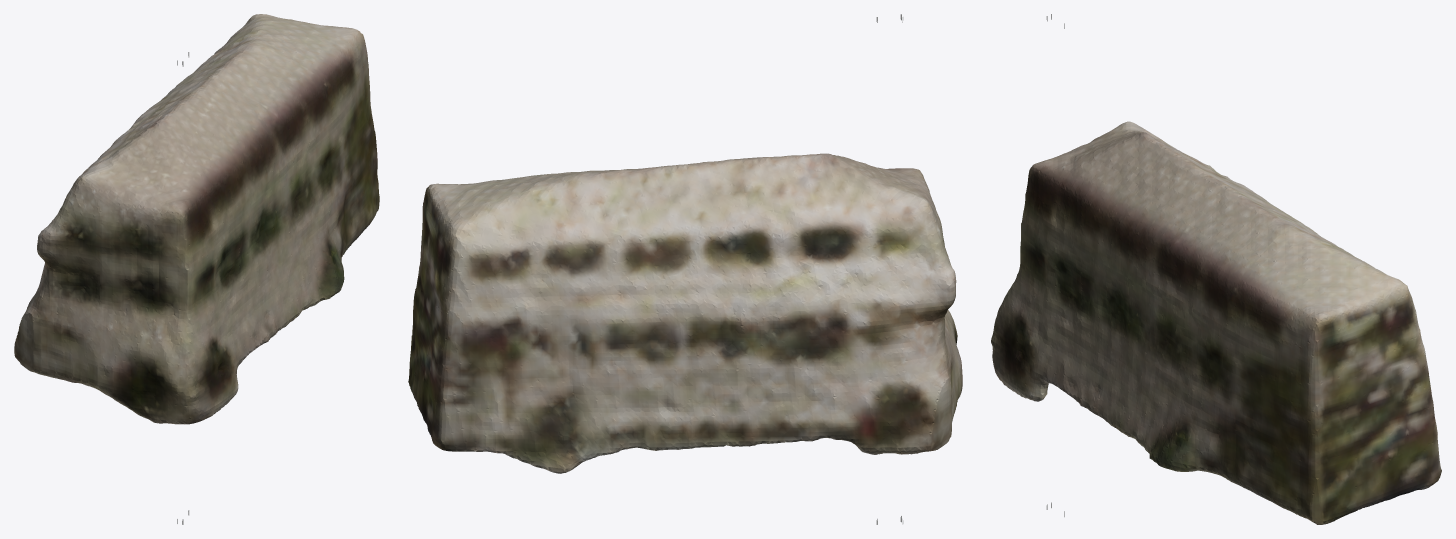
File: bus.glb
The picture shows the model from 3 angles, left to right: view 1: azimuth 30°, elevation 25°; view 2: azimuth 150°, elevation 25°; view 3: azimuth 270°, elevation 25°; orthographic projection. The views are drawn at different scales.
Visible parts, largest first — view 1: world; view 2: world; view 3: world.
Part boxes in pixels (box(x1,y1,x2,y2)): world: box(14, 14, 379, 524); world: box(408, 14, 962, 524); world: box(991, 14, 1441, 524).
Size of the model in its own units: 1.97 by 2.08 by 1.72.
